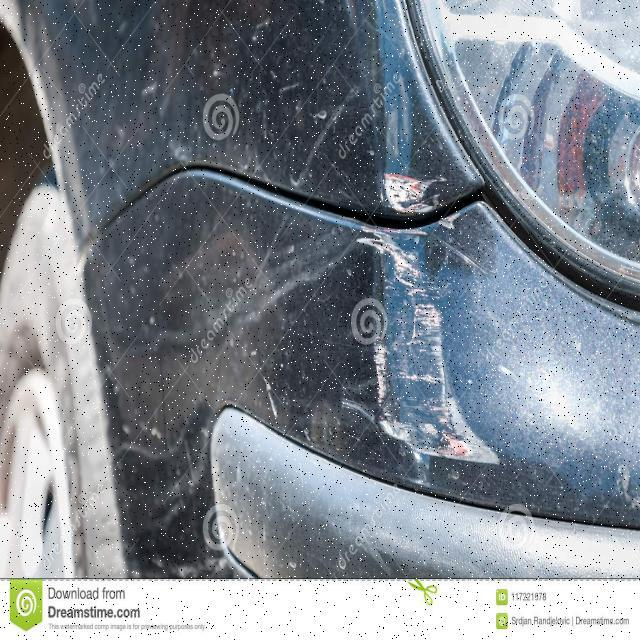front-bumper-dent: (64, 156, 640, 582)
